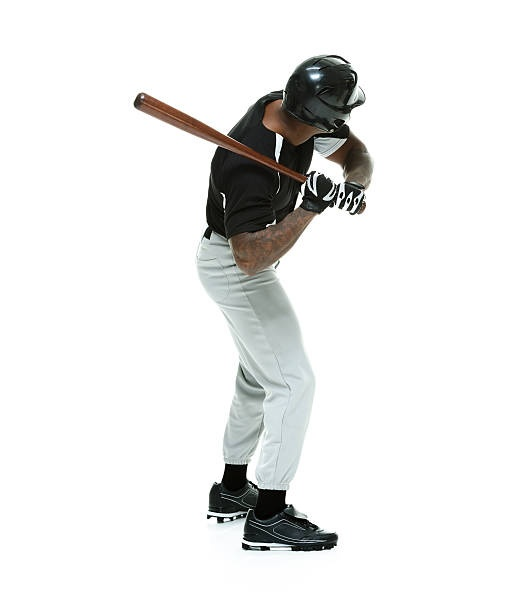bita: (125, 91, 353, 214)
